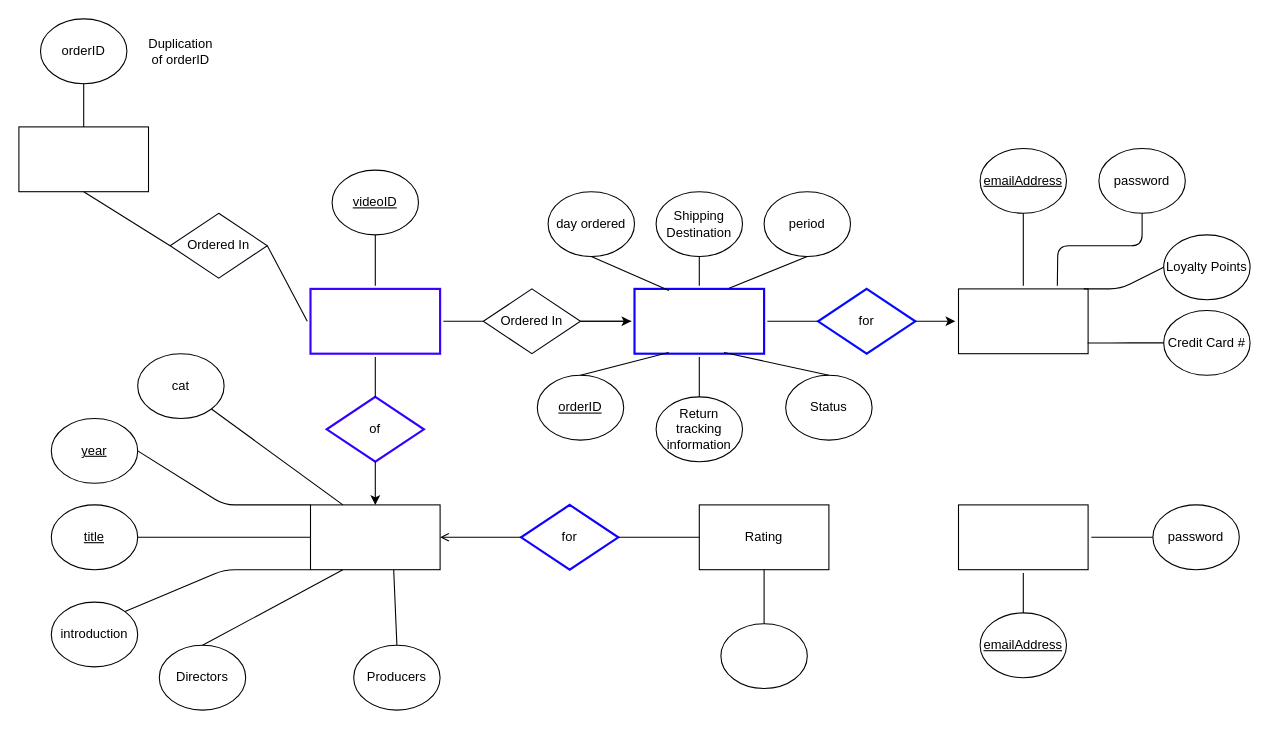
Image size: 1269x729. Some labels were removed from this diagram. The shapes that lost their labels are listed below. From the top down, each one's centre as x and y in pixels, then its label:
At (x=83, y=159): "OrderItem".
At (x=375, y=320): "Videotape".
At (x=699, y=320): "Order".
At (x=1022, y=321): "Customer".
At (x=374, y=537): "Movie".
At (x=1022, y=537): "Manager".
At (x=763, y=655): "Critic name".
